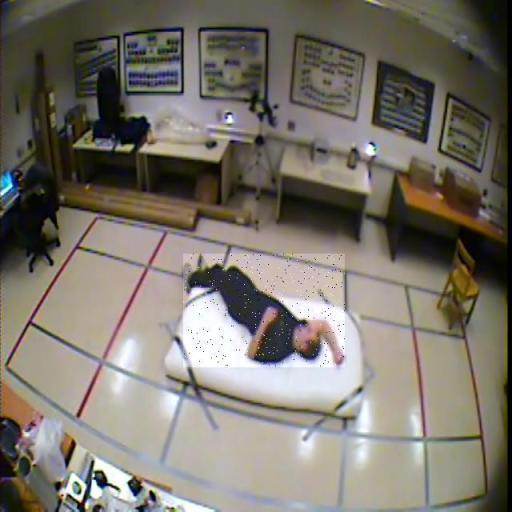Fall: (183, 254, 345, 367)
